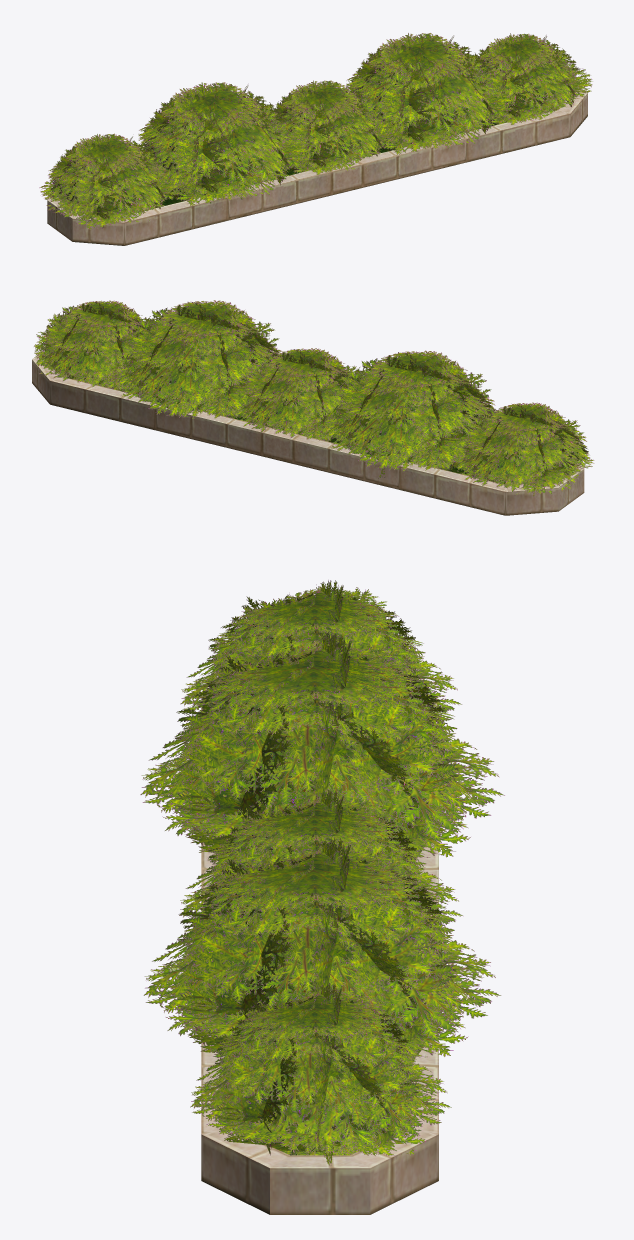
The model's file is n_SEgarden01.glb.
3 renders of one model, top to bottom at view 1: azimuth 30°, elevation 25°; view 2: azimuth 150°, elevation 25°; view 3: azimuth 270°, elevation 25°, orthographic. The views are drawn at different scales.
Visible parts, largest first — view 1: n_SEgarden01; view 2: n_SEgarden01; view 3: n_SEgarden01.
Part boxes in pixels (bbox=[...]): n_SEgarden01: bbox=[39, 33, 592, 245]; n_SEgarden01: bbox=[32, 300, 594, 515]; n_SEgarden01: bbox=[140, 580, 504, 1214].
Size of the model in its own units: 5.37 by 1.08 by 1.78.
Materials: 2 (2 with a texture image).
